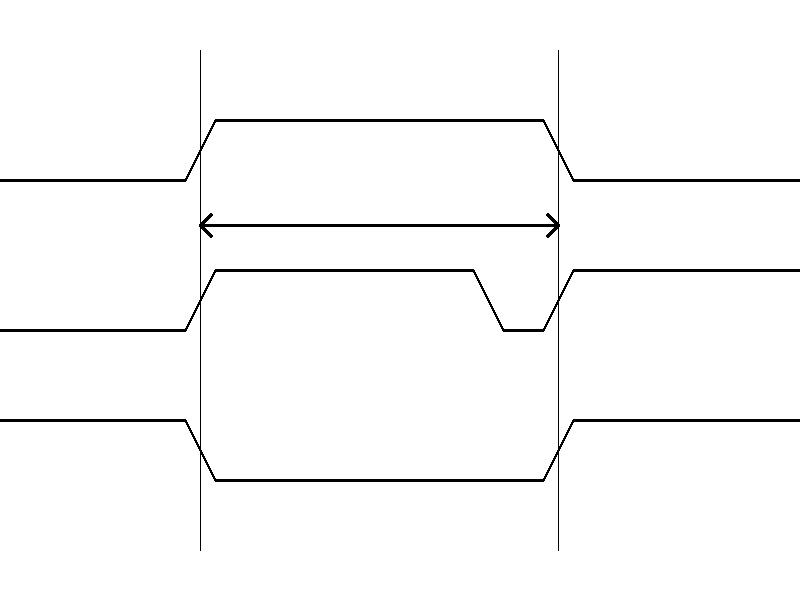double_arrow: (200, 210, 558, 240)
